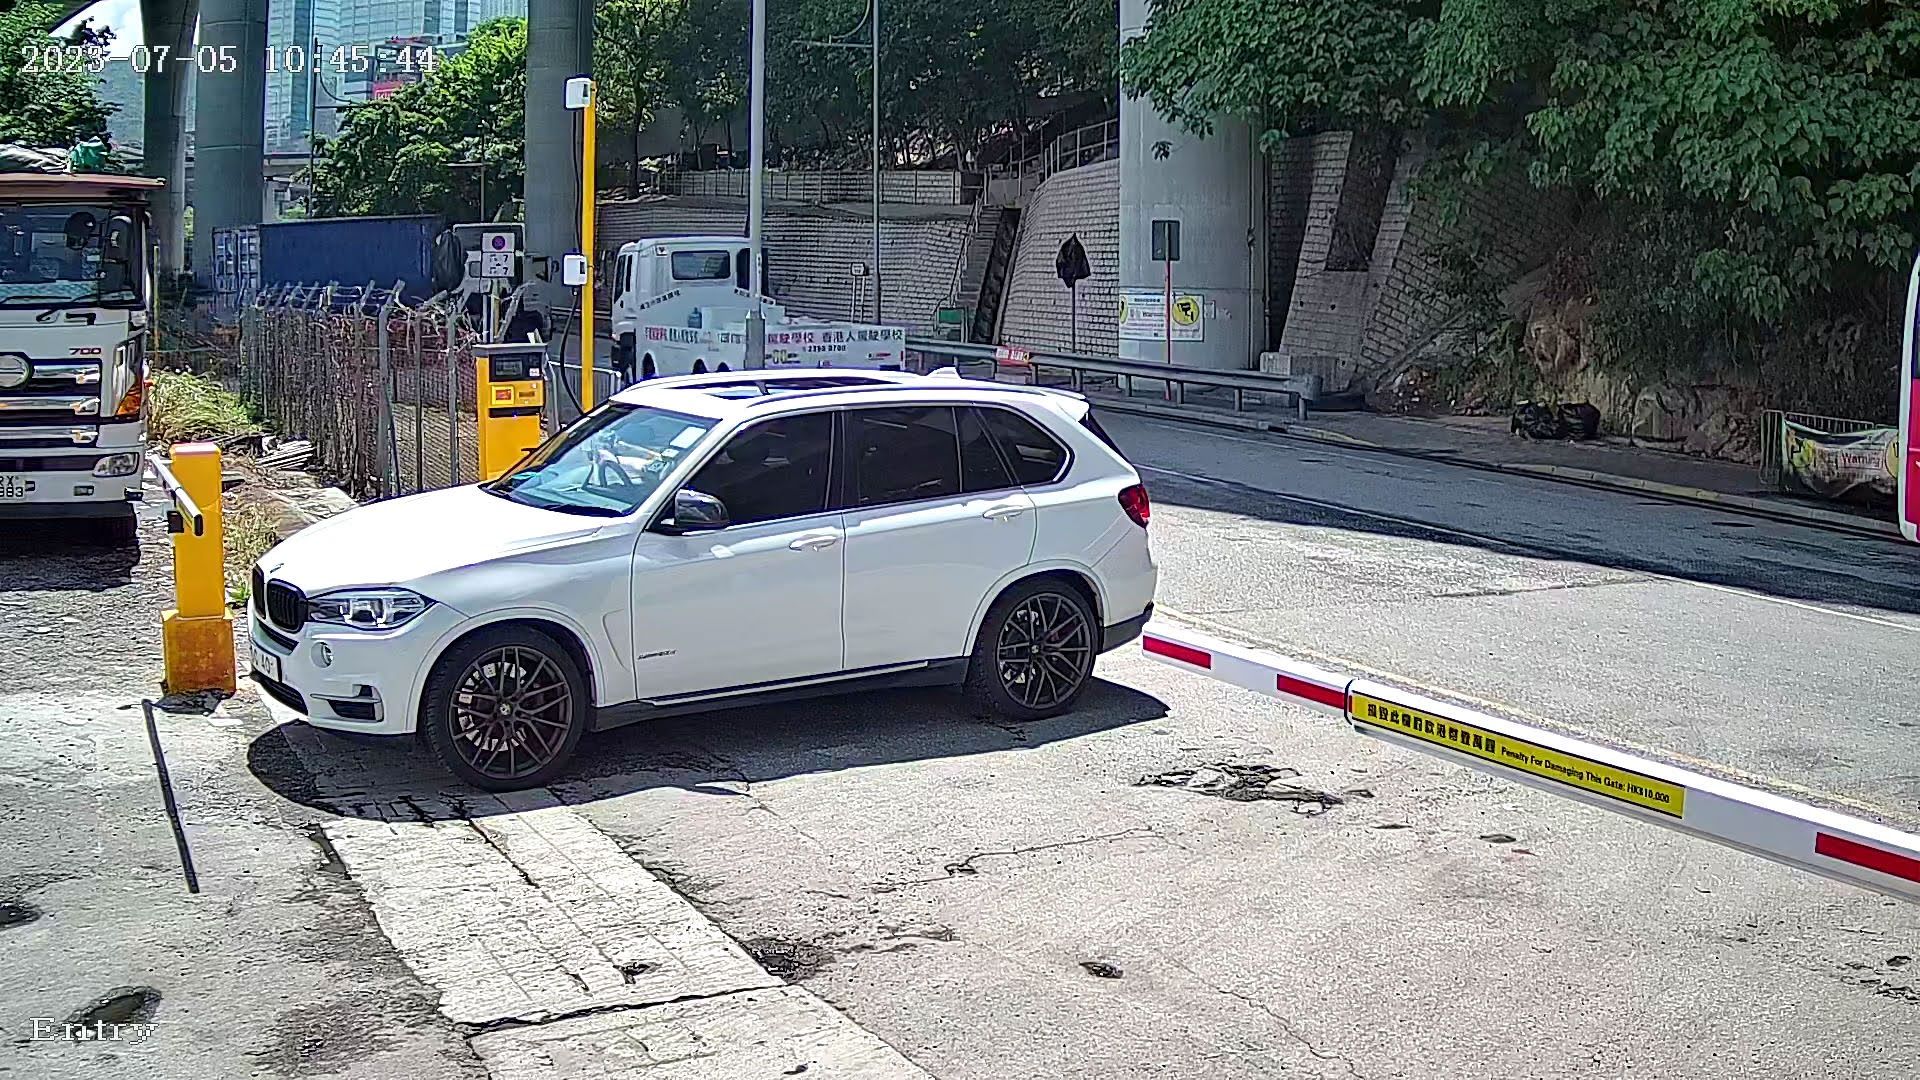privatecar: (223, 318, 1189, 822)
